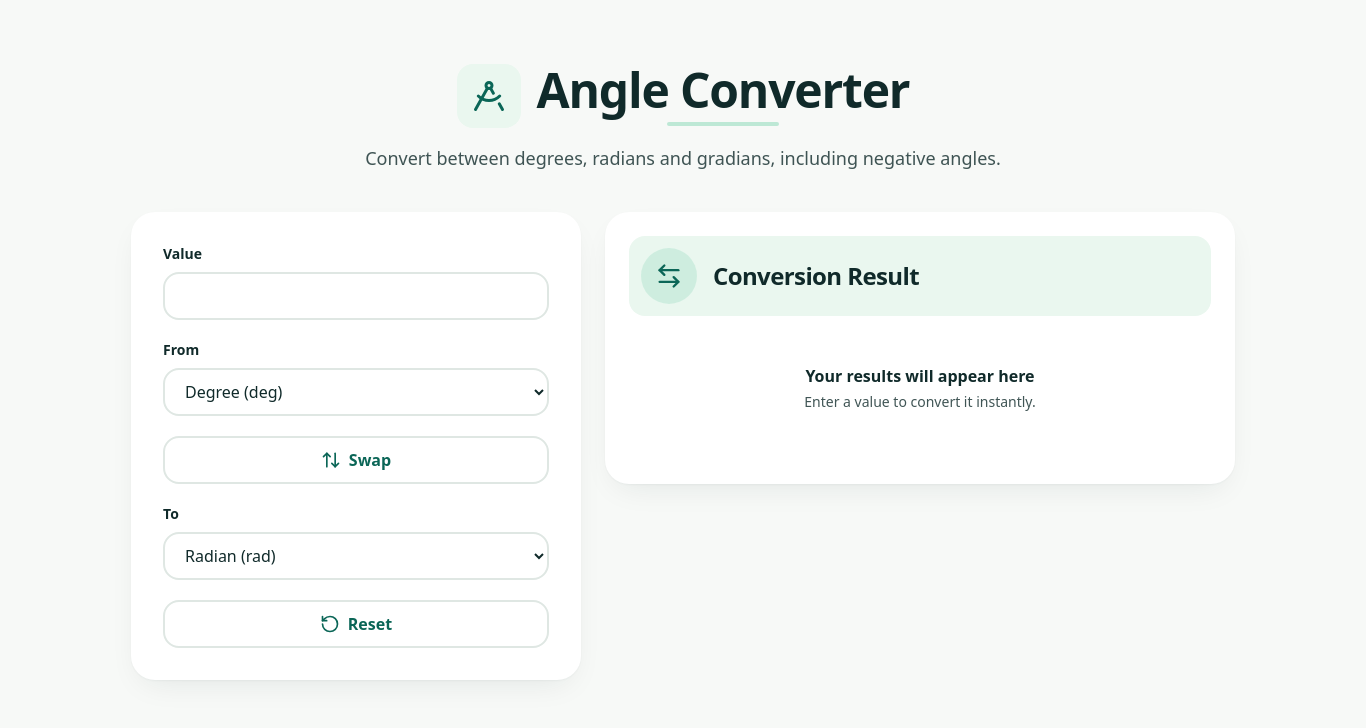
Test: Angle Converter › swaps units and keeps the value
The width and height of the screenshot is (1366, 728).
Select "Gradian (grad)" in the dropdown labelled "To" at coordinates (356, 556), box [163,532,549,580]
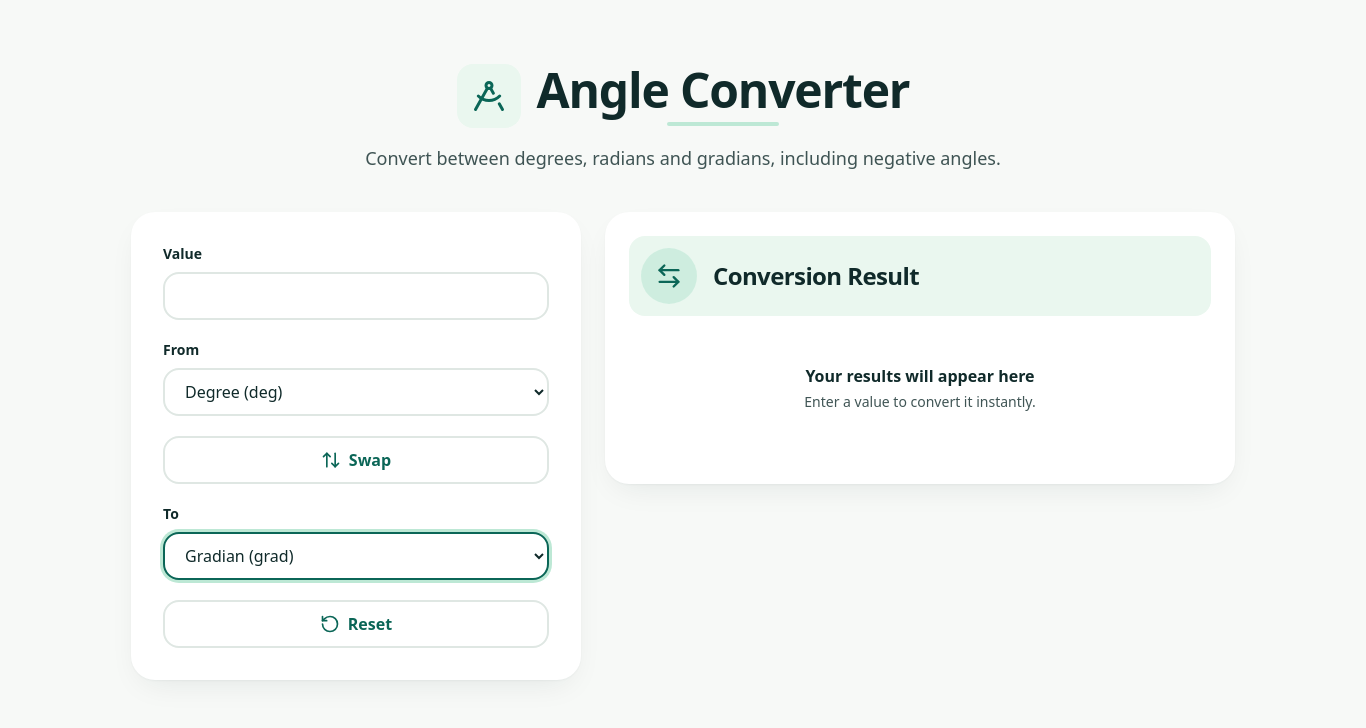
Type "100" into the field labelled "Value" at coordinates (356, 296), box [163,272,549,320]
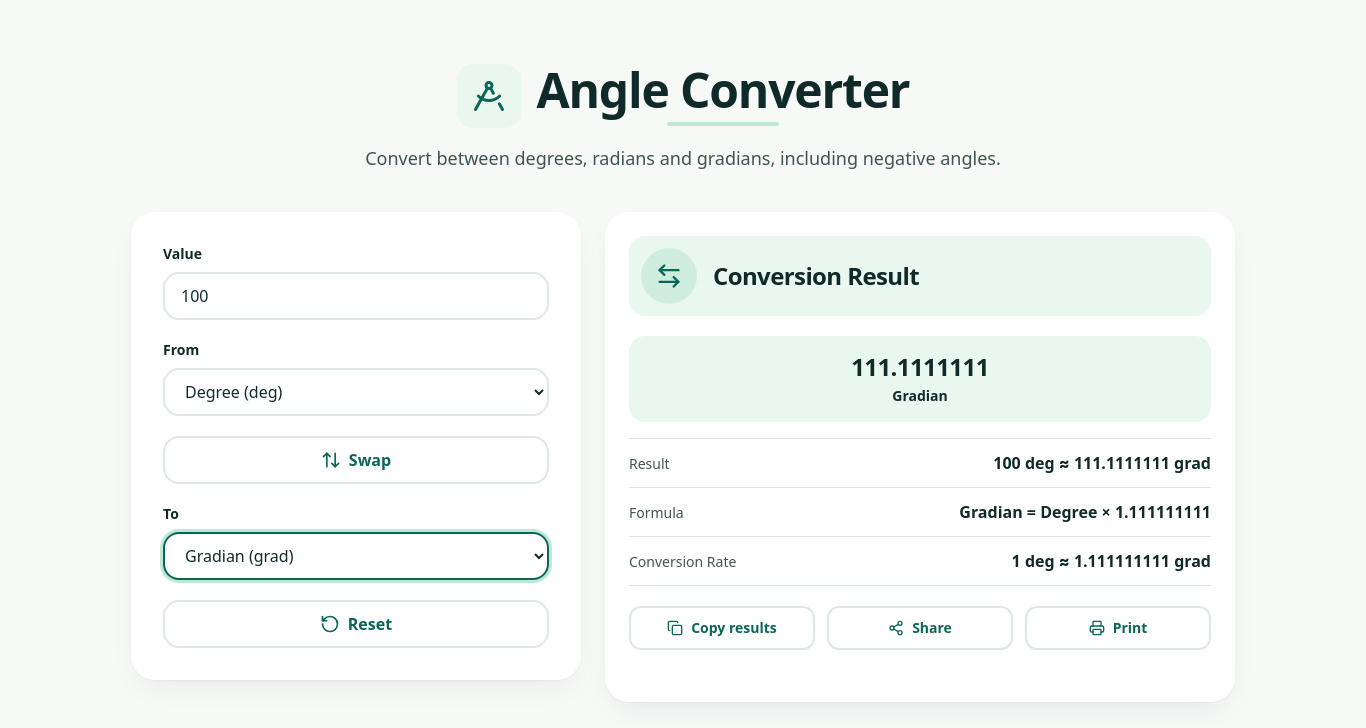
Click the button with aria-label "Swap units" at coordinates (356, 460), box [163,436,549,484]
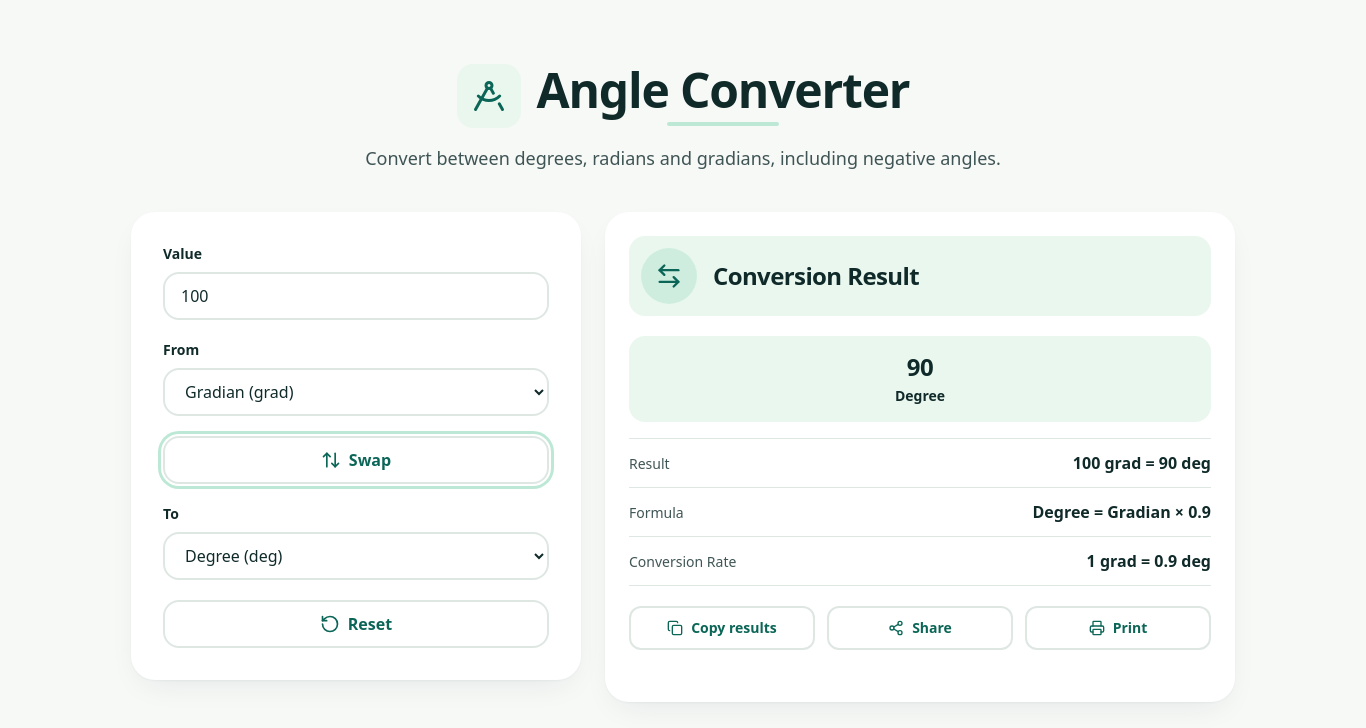
Expected: the dropdown labelled "From" shows "Gradian (grad)", [163,368,549,416]
